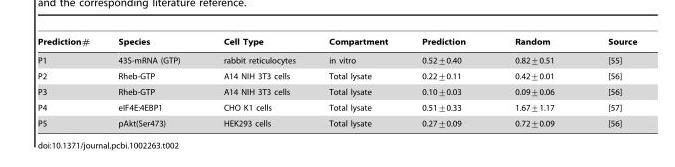table: (37, 37, 636, 128)
table column: (201, 37, 311, 128), (103, 37, 201, 128), (311, 37, 404, 128), (489, 37, 580, 128), (404, 37, 489, 128), (37, 37, 103, 128), (580, 37, 636, 128)
table column header: (37, 37, 636, 50)
table row: (37, 50, 636, 68), (37, 68, 636, 84), (37, 99, 636, 115), (37, 84, 636, 99), (37, 37, 636, 50), (37, 115, 636, 128)
